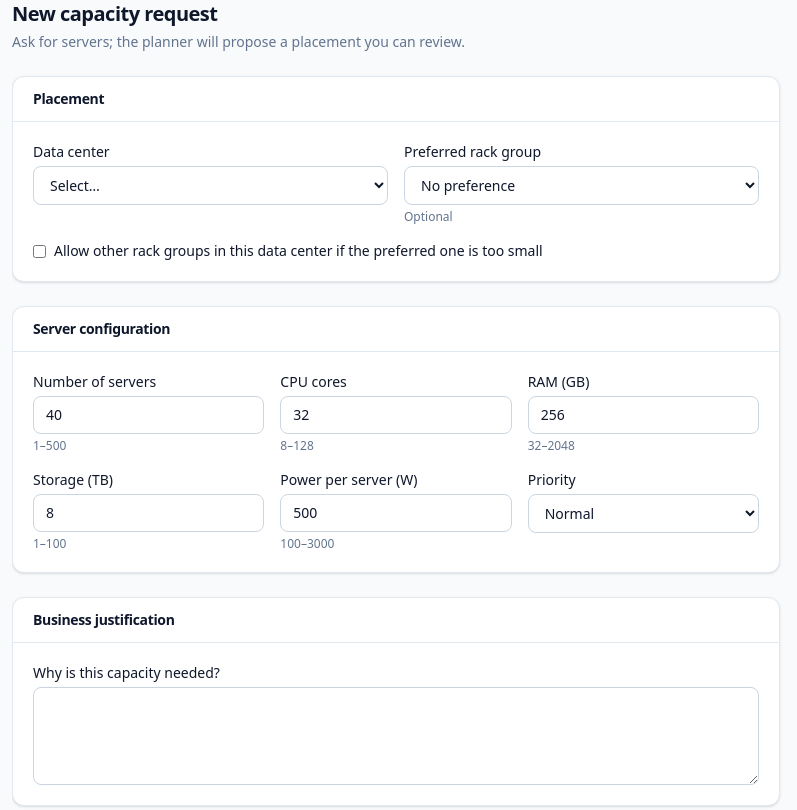
Test: NewRequestPage › maps server-side field errors onto the form
The width and height of the screenshot is (797, 810).
Select "DC-A — Data Center A" in the dropdown labelled "Data center" at [210, 186], box [33, 166, 388, 205]
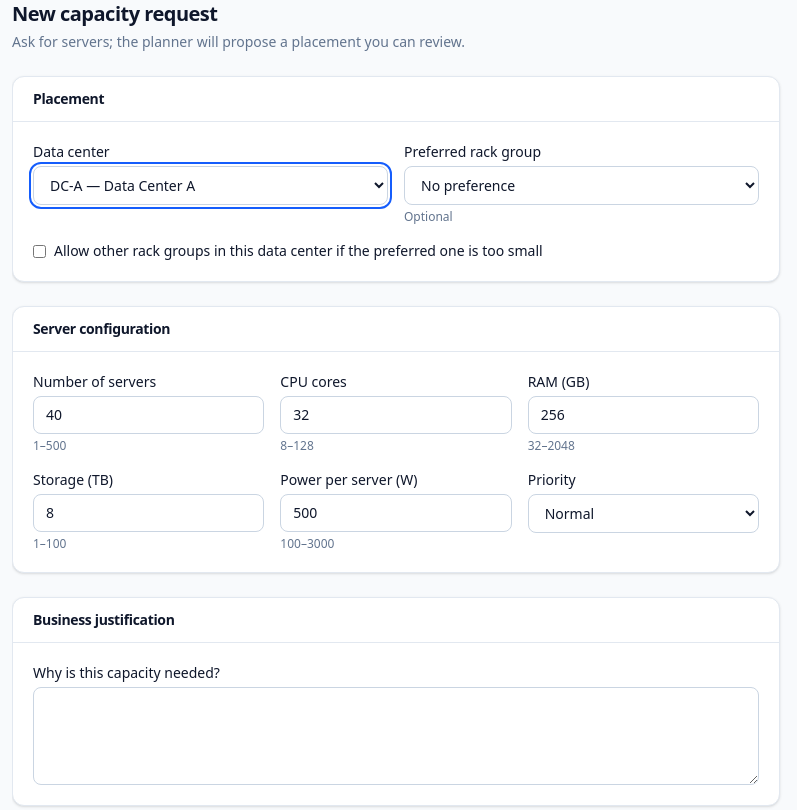
Type "ok" into the text box labelled "Why is this capacity needed?" at [396, 736], box [33, 687, 759, 785]
(page scrolled)
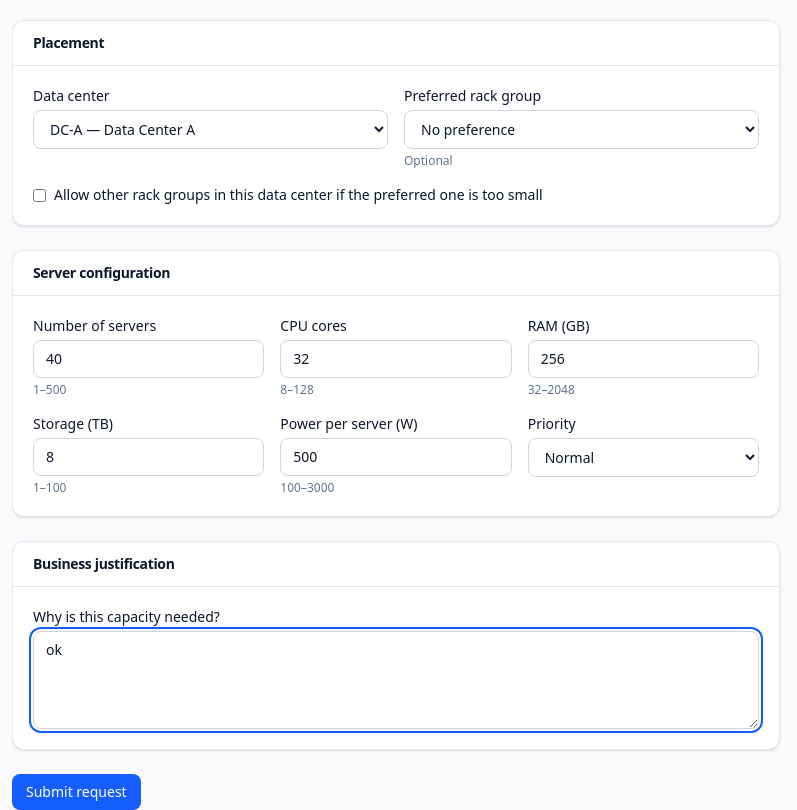
Click the button "Submit request" at [76, 792], box [12, 774, 141, 809]
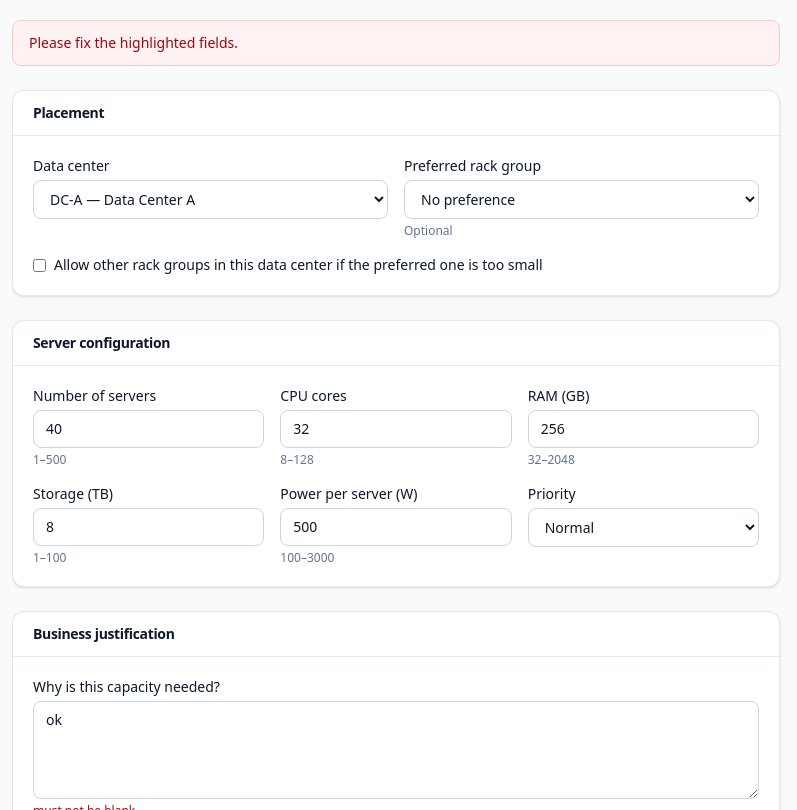
Now the text "Please fix the highlighted fields." is shown, box [12, 20, 780, 66]
